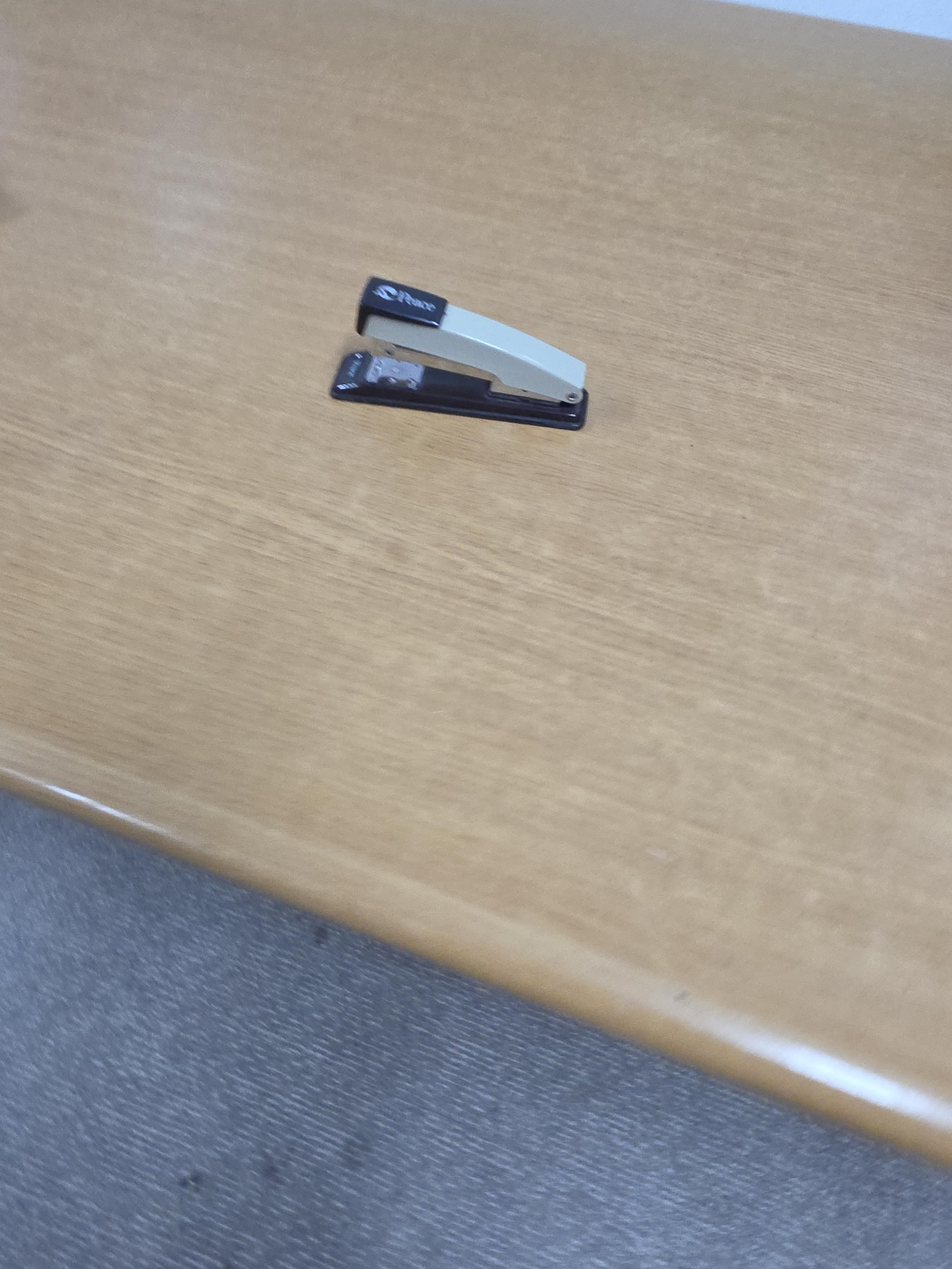stapler: (330, 276, 589, 431)
